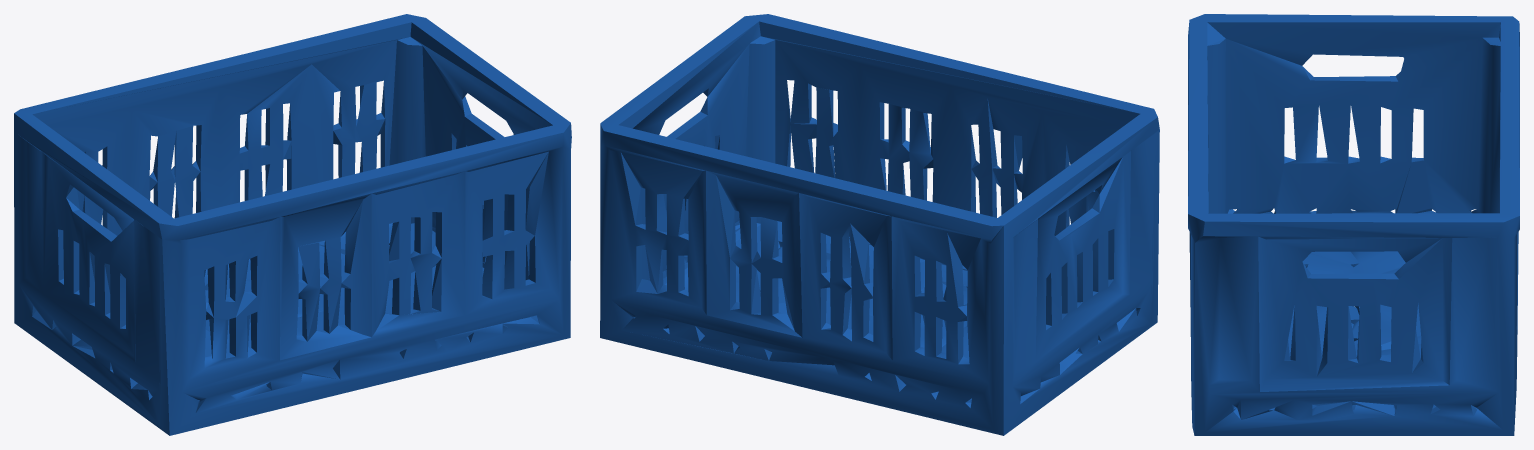
File: f_nelayan_peti_kosong.glb
3 renders of one model, left to right at view 1: azimuth 30°, elevation 25°; view 2: azimuth 150°, elevation 25°; view 3: azimuth 270°, elevation 25°, orthographic. The views are drawn at different scales.
Parts seen in each view (by area): view 1: crate_blue_hdpe; view 2: crate_blue_hdpe; view 3: crate_blue_hdpe.
Part boxes in pixels (x1=…): crate_blue_hdpe: x1=14, y1=14, x2=571, y2=435; crate_blue_hdpe: x1=600, y1=14, x2=1159, y2=435; crate_blue_hdpe: x1=1188, y1=14, x2=1519, y2=435.
Bounding box in the file's own units: 0.6159 × 0.3003 × 0.416.
